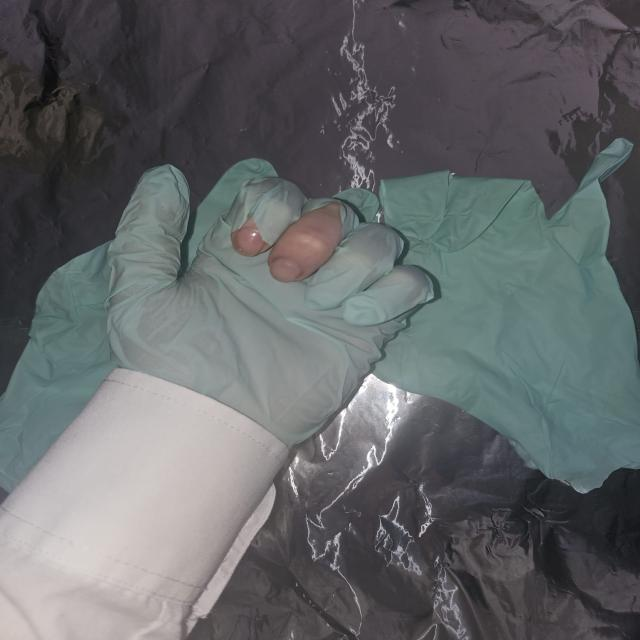gloves_damaged: (103, 160, 442, 452)
